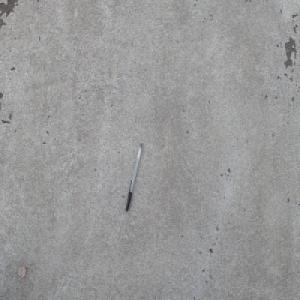Pen: (125, 142, 143, 212)
